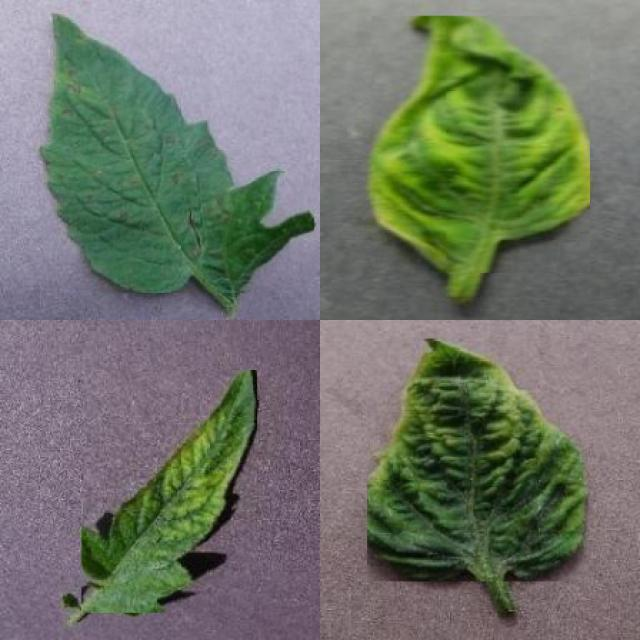Mosaic Virus: (82, 371, 257, 614)
Septoria: (43, 10, 314, 293)
Yellow Leaf Curl Virus: (371, 17, 590, 274), (367, 339, 589, 582)
